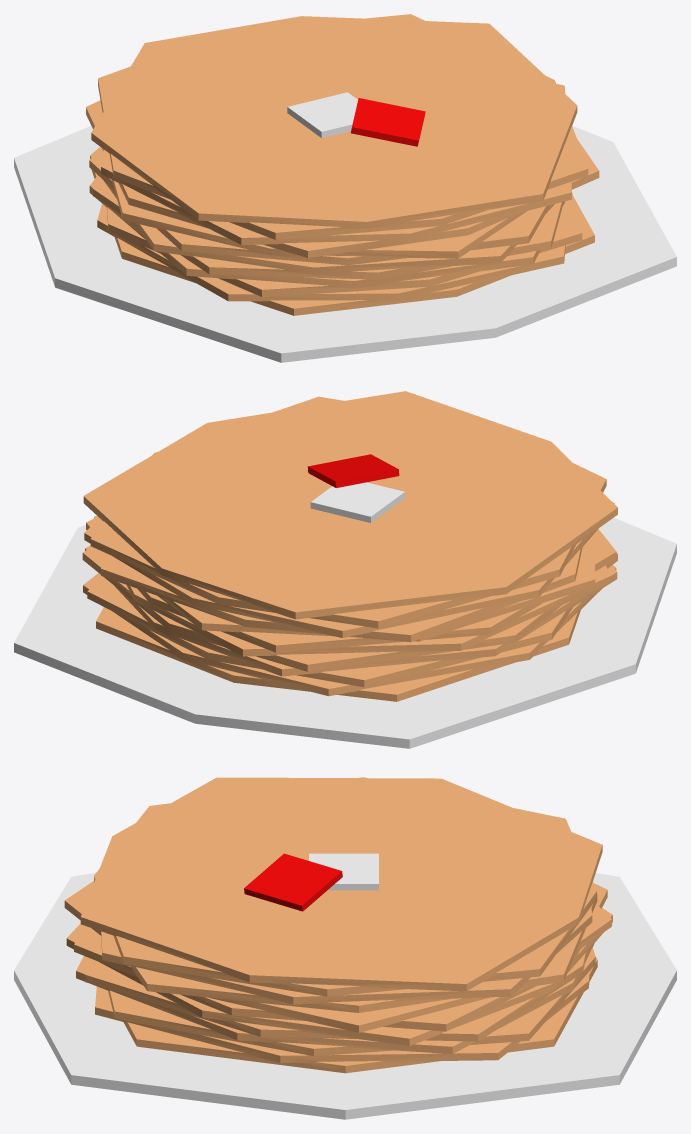
The model's file is pangkaka.fbx.
The picture shows the model from 3 angles, top to bottom: view 1: azimuth 30°, elevation 25°; view 2: azimuth 150°, elevation 25°; view 3: azimuth 270°, elevation 25°; orthographic projection. The views are drawn at different scales.
Parts seen in each view (by area): view 1: pPlane23; view 2: pPlane23; view 3: pPlane23.
Part boxes in pixels (x1=…): pPlane23: x1=14, y1=14, x2=676, y2=362; pPlane23: x1=14, y1=391, x2=676, y2=748; pPlane23: x1=14, y1=777, x2=676, y2=1119.
Bounding box in the file's own units: 94.86 × 19.05 × 95.08.
